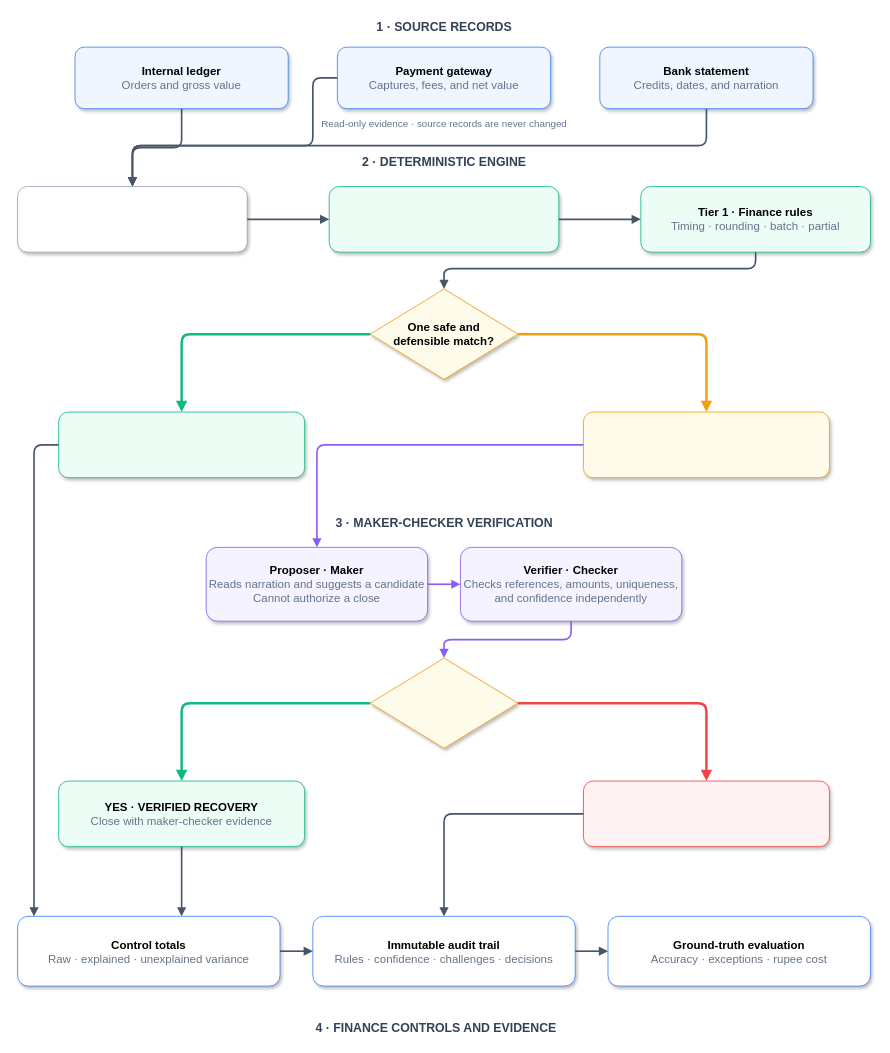
This 890x1053 diagram has some shape labels left out. Each missing label, with the centre of its shape:
"NO · CREATE RESIDUAL Do not guess; send unresolved records to Tier 2" belongs at [706,445].
"NO · HUMAN REVIEW Missing, conflicting, or ambiguous evidence" belongs at [706,814].
"Tier 0 · Exact match Direct references and exact amounts" belongs at [444,220].
"Validate and normalize Schemas · identifiers · dates · integer paise" belongs at [133,220].
"Verifier confirms the evidence?" belongs at [444,704].
"YES · AUTO-MATCH Close with deterministic evidence" belongs at [182,445].
